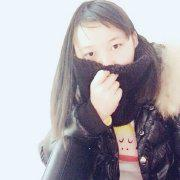WRONG: (81, 32, 137, 88)
